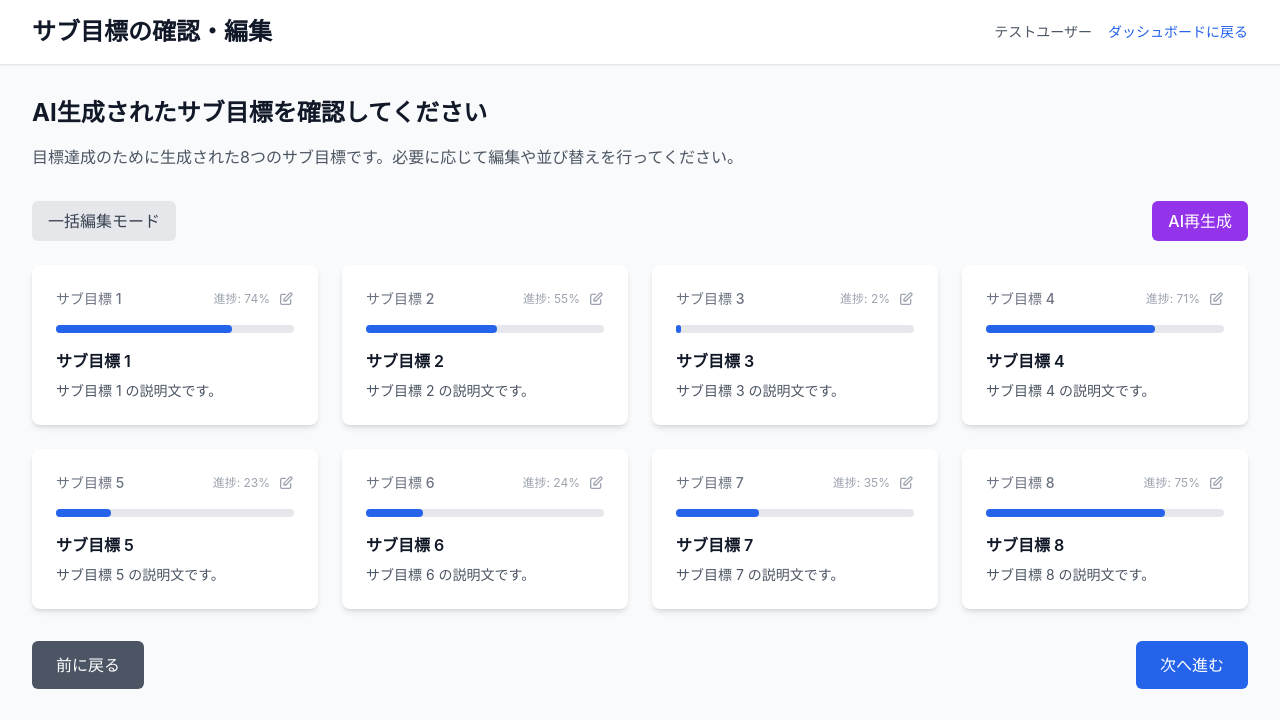
Test: SubGoalEditPage › サブ目標編集 › 編集ボタンをクリックして編集モードに入れる
expect the text "サブ目標 1" is shown: met, box x1=56 y1=289 x2=122 y2=309
Click the 1st button named "サブ目標を編集". click: point(286, 299)
box: x1=278 y1=291 x2=294 y2=307
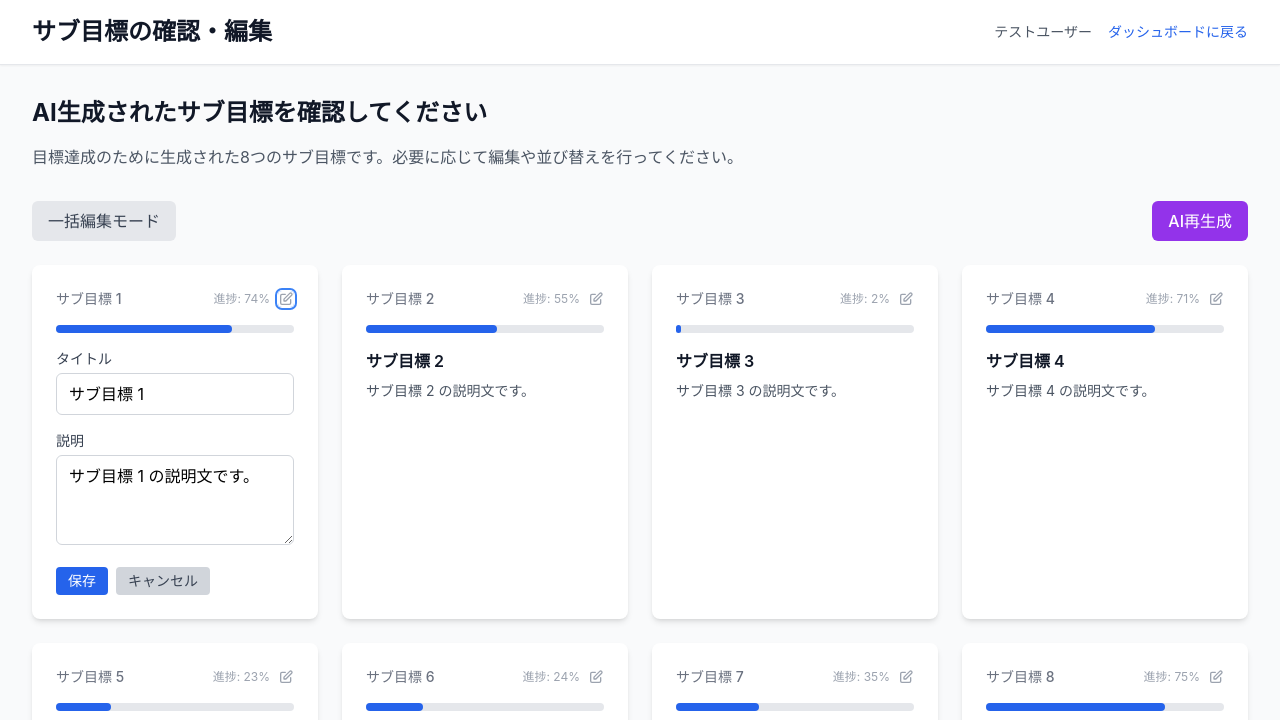
expect the field labelled "タイトル" is shown: met, box x1=56 y1=373 x2=294 y2=415
expect the text box labelled "説明" is shown: met, box x1=56 y1=455 x2=294 y2=545
expect the button "保存" is shown: met, box x1=56 y1=567 x2=108 y2=595
